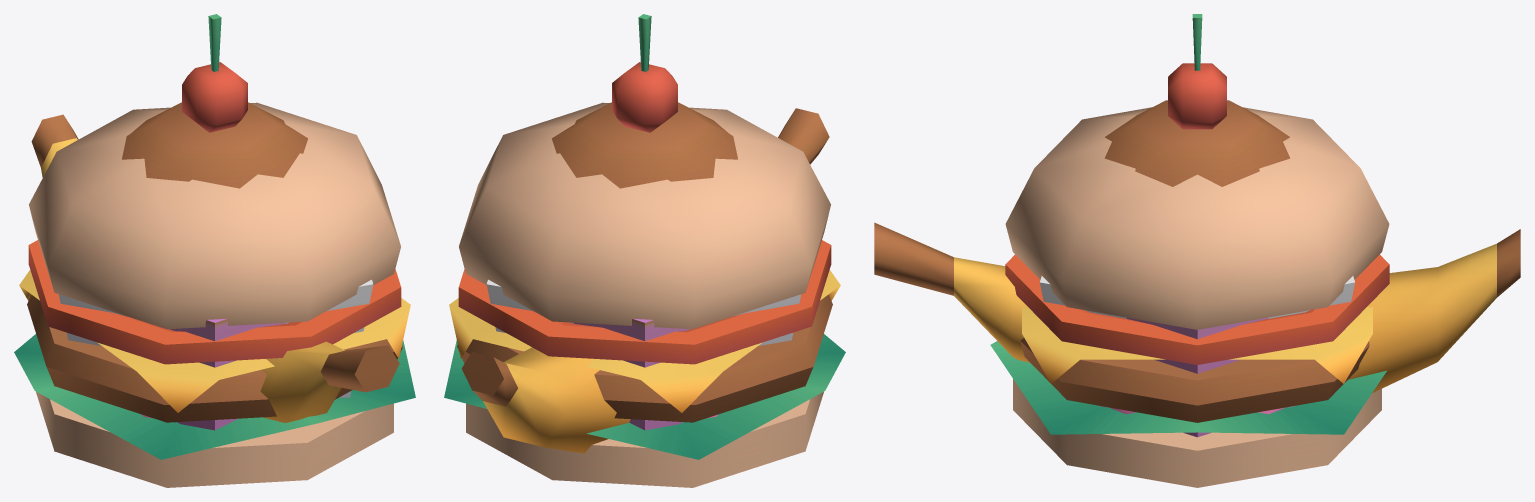
Rendered from food-textured.glb.
3 renders of one model, left to right at view 1: azimuth 30°, elevation 25°; view 2: azimuth 150°, elevation 25°; view 3: azimuth 270°, elevation 25°, orthographic.
Parts seen in each view (by area): view 1: bun-top, bun-bottom, tomato, cake, patty, salad, banana, cheese, cherry, cupcake; view 2: bun-top, banana, tomato, bun-bottom, cake, patty, salad, cheese, cherry, cupcake; view 3: bun-top, banana, patty, bun-bottom, tomato, salad, cake, cheese, cherry, cupcake.
Boxes of the visible parts, <box> form: bun-top: <box>29,102,400,329</box>; bun-bottom: <box>36,392,393,487</box>; tomato: <box>28,240,401,364</box>; cake: <box>122,102,307,188</box>; patty: <box>27,294,402,422</box>; salad: <box>14,334,415,459</box>; banana: <box>31,114,399,422</box>; cheese: <box>19,270,410,412</box>; cherry: <box>182,14,247,132</box>; cupcake: <box>58,279,373,430</box>; bun-top: <box>459,102,830,329</box>; banana: <box>461,108,829,453</box>; tomato: <box>458,240,831,364</box>; bun-bottom: <box>466,392,823,487</box>; cake: <box>552,102,737,188</box>; patty: <box>457,294,832,422</box>; salad: <box>444,334,845,459</box>; cheese: <box>449,270,840,412</box>; cherry: <box>612,14,677,132</box>; cupcake: <box>486,279,801,430</box>; bun-top: <box>1005,107,1389,329</box>; banana: <box>874,222,1520,392</box>; patty: <box>1020,338,1369,422</box>; bun-bottom: <box>1013,379,1381,487</box>; tomato: <box>1005,254,1389,364</box>; salad: <box>990,341,1386,434</box>; cake: <box>1104,100,1290,186</box>; cheese: <box>1022,306,1372,383</box>; cherry: <box>1168,14,1226,129</box>; cupcake: <box>1039,276,1355,437</box>.
Size of the model in its own units: 0.4041 by 0.4238 by 0.6299.
1 material, 1 textured.
